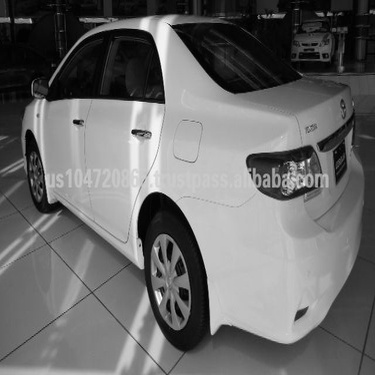car: (16, 9, 369, 355), (283, 20, 340, 71), (213, 12, 260, 46)
